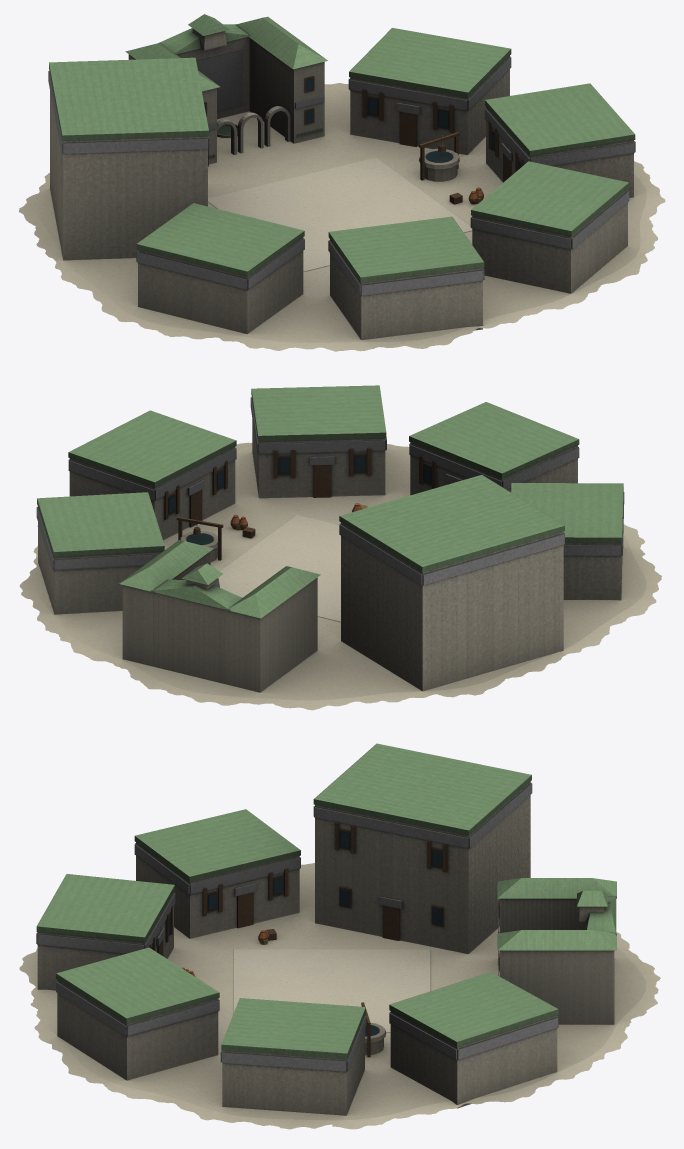
The model's file is gunpowder-town-small-a-maghreb.glb.
3 views of the same model, one above another, from view 1: azimuth 30°, elevation 25°; view 2: azimuth 150°, elevation 25°; view 3: azimuth 270°, elevation 25° (orthographic).
Visible parts, largest first — view 1: LOD0; view 2: LOD0; view 3: LOD0.
Boxes of the visible parts, box(x1,y1,x2,y2) form: LOD0: box(19, 14, 665, 351); LOD0: box(19, 385, 661, 710); LOD0: box(19, 743, 660, 1129).
Size of what is drawn, in the model's own units: 3.96 by 0.8685 by 4.01.
Materials: 3 (3 with a texture image).
